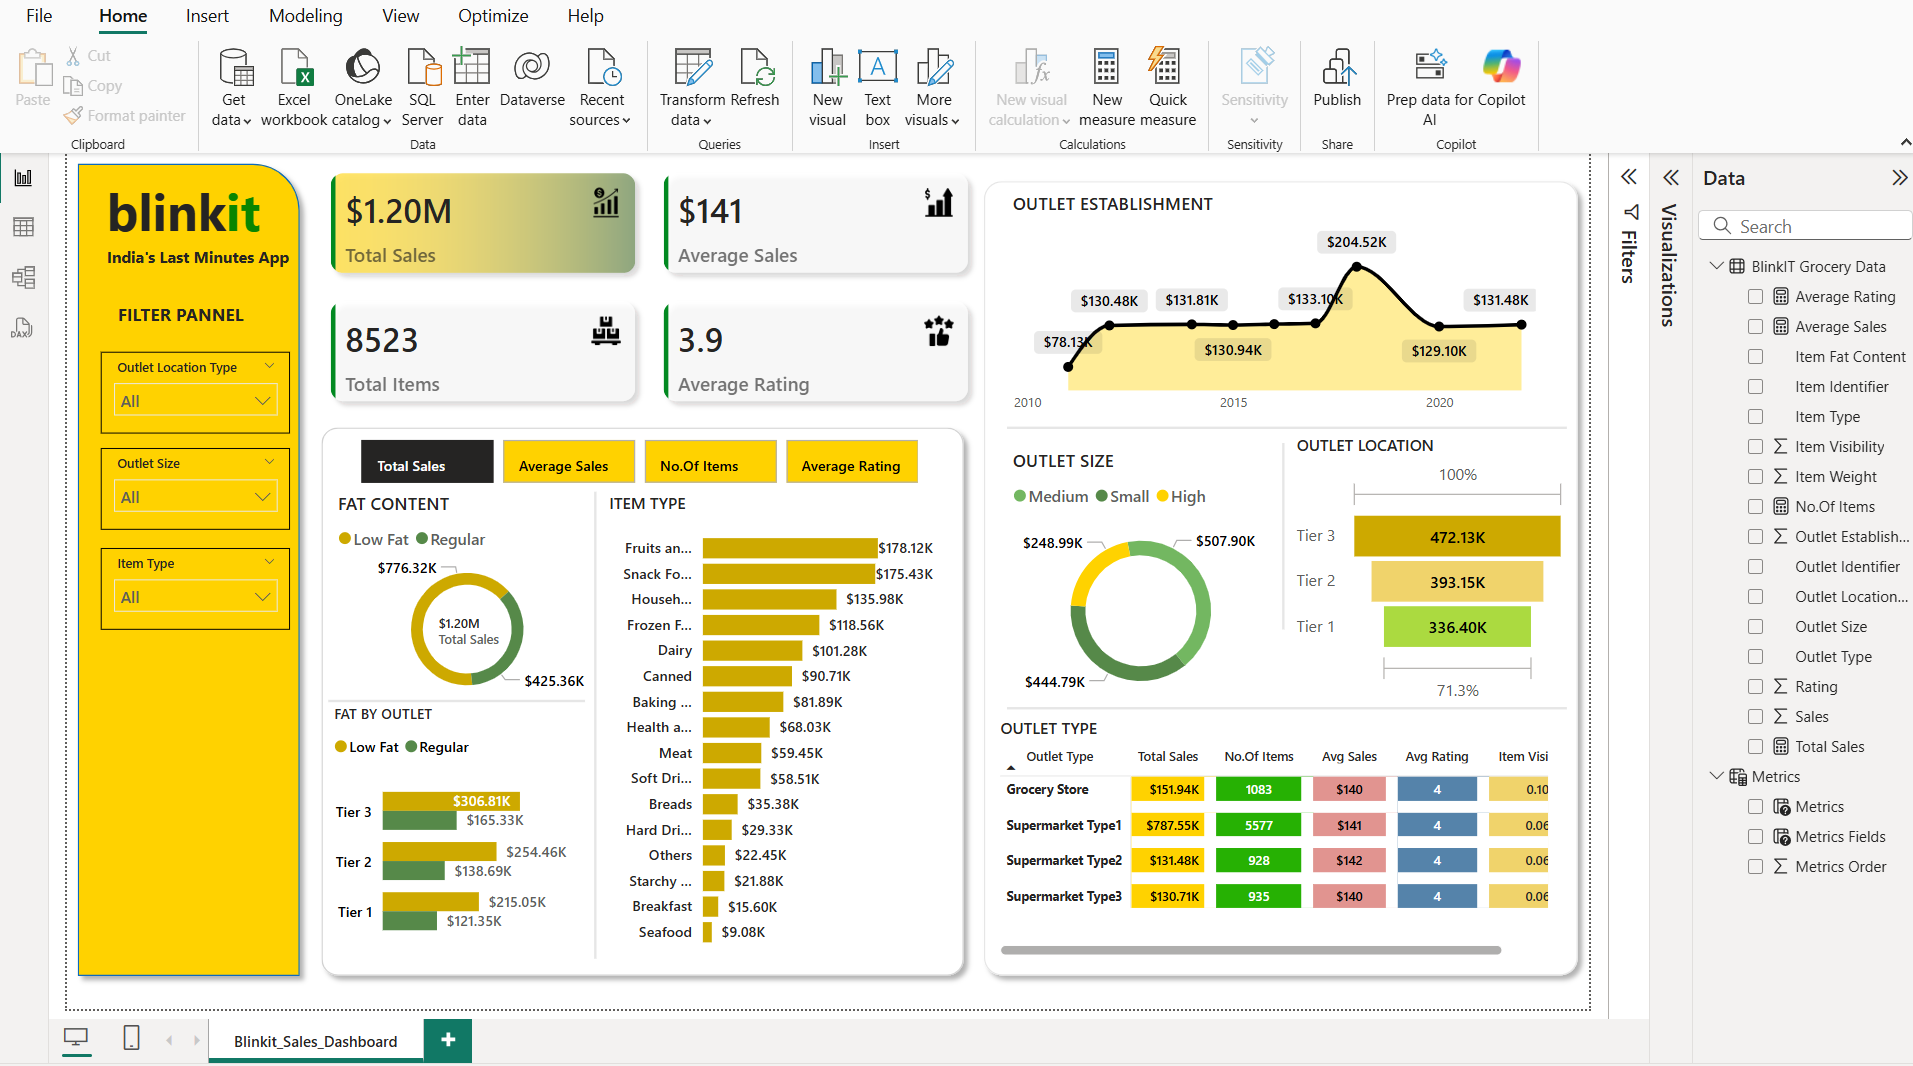

What the dashboard file says about the page in this screenshot:
{"tool":"powerbi","page":{"name":"Page 1","canvas":[1280,720],"ordinal":0},"visuals":[{"type":"shape","box":[204.7,222.1,558.1,479.1],"z":0},{"type":"shape","box":[0,0,204.7,701.2],"z":1000},{"type":"donutChart","title":"FAT CONTENT","fields":{"Y":["BlinkIT Grocery Data.Total Sales"],"Category":["BlinkIT Grocery Data.Item Fat Content"]},"box":[223.3,283.7,227.9,183.7],"z":1000,"group":"g1"},{"type":"textbox","box":[27.9,15.1,168.6,77.9],"z":2000},{"type":"textbox","box":[27.9,73.3,186,38.4],"z":3000},{"type":"cardVisual","fields":{"Data":["BlinkIT Grocery Data.Total Sales","BlinkIT Grocery Data.Average Sales","BlinkIT Grocery Data.No.Of Items","BlinkIT Grocery Data.Average Rating"]},"box":[204.7,0,570.9,226.7],"z":4000},{"type":"advancedSlicerVisual","fields":{"Values":["Metrics.Metrics"]},"box":[243,236,481.4,46.5],"z":5000},{"type":"clusteredBarChart","title":"FAT BY OUTLET","fields":{"Y":["BlinkIT Grocery Data.Total Sales"],"Series":["BlinkIT Grocery Data.Item Fat Content"],"Category":["BlinkIT Grocery Data.Outlet Location Type"]},"box":[219.8,464,217.4,214],"z":6000},{"type":"cardVisual","fields":{"Data":["BlinkIT Grocery Data.Total Sales"]},"box":[295.4,370.9,97.7,48.8],"z":7000,"group":"g1"},{"type":"shape","box":[219.8,451.2,216.3,19.8],"z":7000},{"type":"shape","box":[1020.9,254.7,16.3,166.3],"z":8000},{"type":"barChart","title":"ITEM TYPE","fields":{"Y":["BlinkIT Grocery Data.Total Sales"],"Category":["BlinkIT Grocery Data.Item Type"]},"box":[451.2,284.9,282.6,393],"z":9000},{"type":"shape","box":[762.8,15.1,517.4,686],"z":10000},{"type":"lineChart","title":"OUTLET ESTABLISHMENT ","fields":{"Y":["BlinkIT Grocery Data.Total Sales"],"Category":["BlinkIT Grocery Data.Outlet Establishment Year"]},"box":[790.7,31.4,450,195.3],"z":11000},{"type":"shape","box":[790.7,222.1,470.9,18.6],"z":12000},{"type":"donutChart","title":"OUTLET SIZE","fields":{"Y":["BlinkIT Grocery Data.Total Sales"],"Category":["BlinkIT Grocery Data.Outlet Size"]},"box":[790.7,247.7,225.6,224.4],"z":13000},{"type":"funnel","title":"OUTLET LOCATION","fields":{"Y":["Sum(BlinkIT Grocery Data.Sales)"],"Category":["BlinkIT Grocery Data.Outlet Location Type"]},"box":[1029.1,236,237.2,230.2],"z":14000},{"type":"shape","box":[1016.3,244.2,12.8,157],"z":15000},{"type":"shape","box":[437.2,284.9,14,393],"z":16000},{"type":"shape","box":[790.7,459.3,470.9,15.1],"z":17000},{"type":"pivotTable","title":"OUTLET TYPE","fields":{"Rows":["BlinkIT Grocery Data.Outlet Type"],"Values":["BlinkIT Grocery Data.Total Sales","BlinkIT Grocery Data.No.Of Items","BlinkIT Grocery Data.Average Sales","BlinkIT Grocery Data.Average Rating","Avg(BlinkIT Grocery Data.Item Visibility)"]},"box":[780.2,474.4,470.9,205.8],"z":18000},{"type":"slicer","fields":{"Values":["BlinkIT Grocery Data.Outlet Location Type"]},"box":[27.9,167.4,159.3,68.6],"z":19000},{"type":"slicer","fields":{"Values":["BlinkIT Grocery Data.Outlet Size"]},"box":[27.9,247.7,159.3,68.6],"z":20000},{"type":"slicer","fields":{"Values":["BlinkIT Grocery Data.Item Type"]},"box":[27.9,332.6,159.3,68.6],"z":21000},{"type":"textbox","box":[38.4,120.9,150,37.2],"z":22000},{"type":"group","id":"g1","title":"Group 1","box":[223.3,283.7,227.9,183.7],"z":23000}]}

Visuals, with their boxes on the page's 1280x720 design canvas (x1, y1, x2, y2). These are canvas units, not pixel positions in the 1913x1066 screenshot, which may show the page scaled, cropped or inside an application window:
shape: {"left": 205, "top": 222, "right": 763, "bottom": 701}
shape: {"left": 0, "top": 0, "right": 205, "bottom": 701}
"FAT CONTENT" donutChart: {"left": 223, "top": 284, "right": 451, "bottom": 467}
textbox: {"left": 28, "top": 15, "right": 196, "bottom": 93}
textbox: {"left": 28, "top": 73, "right": 214, "bottom": 112}
cardVisual - BlinkIT Grocery Data.Total Sales x BlinkIT Grocery Data.Average Sales: {"left": 205, "top": 0, "right": 776, "bottom": 227}
advancedSlicerVisual - Metrics.Metrics: {"left": 243, "top": 236, "right": 724, "bottom": 282}
"FAT BY OUTLET" clusteredBarChart: {"left": 220, "top": 464, "right": 437, "bottom": 678}
cardVisual - BlinkIT Grocery Data.Total Sales: {"left": 295, "top": 371, "right": 393, "bottom": 420}
shape: {"left": 220, "top": 451, "right": 436, "bottom": 471}
shape: {"left": 1021, "top": 255, "right": 1037, "bottom": 421}
"ITEM TYPE" barChart: {"left": 451, "top": 285, "right": 734, "bottom": 678}
shape: {"left": 763, "top": 15, "right": 1280, "bottom": 701}
"OUTLET ESTABLISHMENT " lineChart: {"left": 791, "top": 31, "right": 1241, "bottom": 227}
shape: {"left": 791, "top": 222, "right": 1262, "bottom": 241}
"OUTLET SIZE" donutChart: {"left": 791, "top": 248, "right": 1016, "bottom": 472}
"OUTLET LOCATION" funnel: {"left": 1029, "top": 236, "right": 1266, "bottom": 466}
shape: {"left": 1016, "top": 244, "right": 1029, "bottom": 401}
shape: {"left": 437, "top": 285, "right": 451, "bottom": 678}
shape: {"left": 791, "top": 459, "right": 1262, "bottom": 474}
"OUTLET TYPE" pivotTable: {"left": 780, "top": 474, "right": 1251, "bottom": 680}
slicer - BlinkIT Grocery Data.Outlet Location Type: {"left": 28, "top": 167, "right": 187, "bottom": 236}
slicer - BlinkIT Grocery Data.Outlet Size: {"left": 28, "top": 248, "right": 187, "bottom": 316}
slicer - BlinkIT Grocery Data.Item Type: {"left": 28, "top": 333, "right": 187, "bottom": 401}
textbox: {"left": 38, "top": 121, "right": 188, "bottom": 158}
"Group 1" group: {"left": 223, "top": 284, "right": 451, "bottom": 467}
